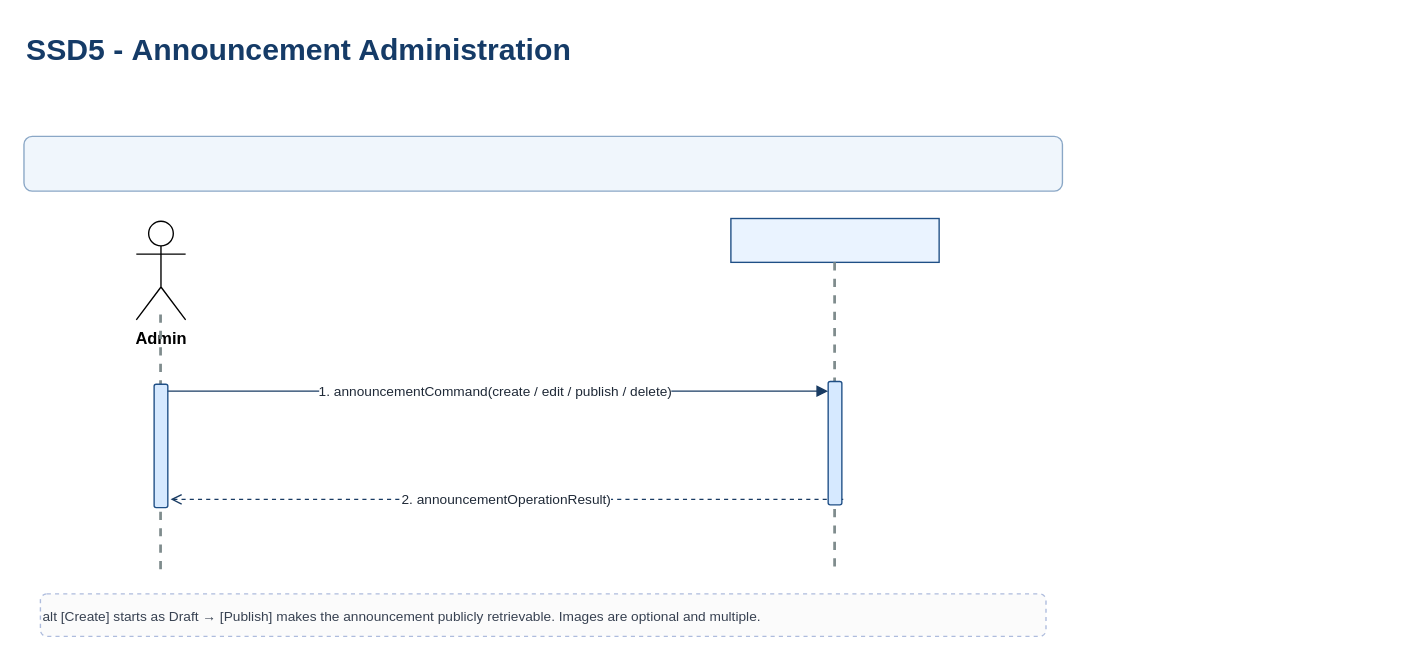
The diagram is 1418 pixels wide and 660 high, and some of its shapes have lost their labels. The shapes that lost their labels are listed below. From the top down, each one's box as (x1, y1, x2, y2) in pixels, then its label:
(23, 135, 1062, 191): A. Manage Announcements
(730, 217, 939, 262): :CCS Connect
